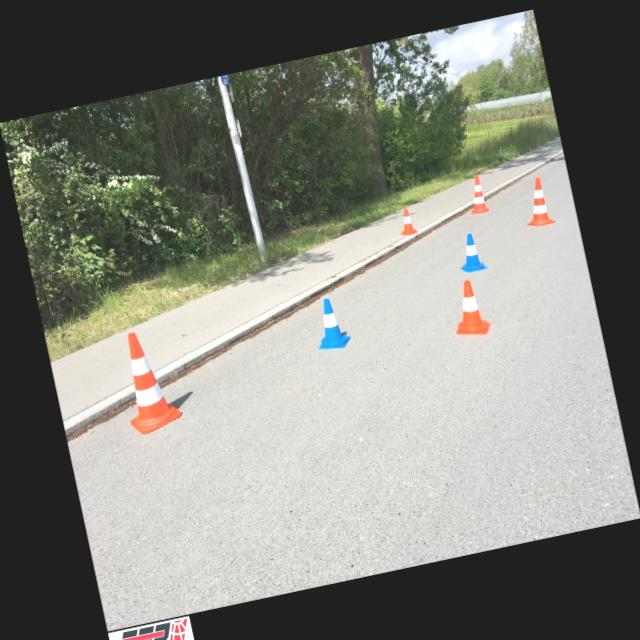blue_cone: (309, 295, 352, 353), (453, 230, 488, 274)
large_orange_cone: (112, 326, 184, 436), (518, 175, 556, 228), (464, 174, 489, 215)
orange_cone: (446, 277, 492, 340), (394, 206, 418, 236)
